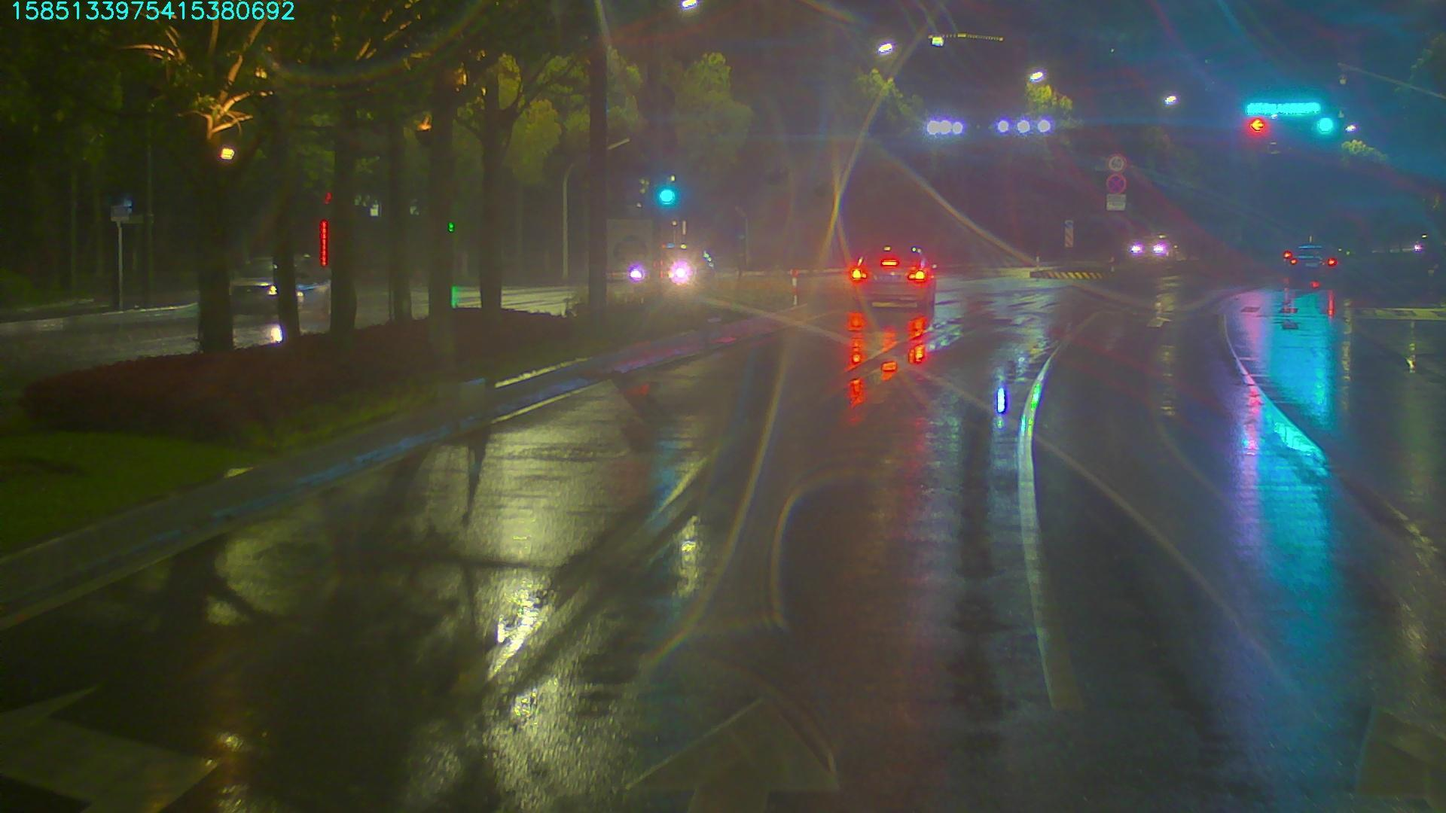green: (1317, 115, 1336, 136)
red: (1244, 117, 1268, 129)
wait_on: (1242, 96, 1322, 115)
